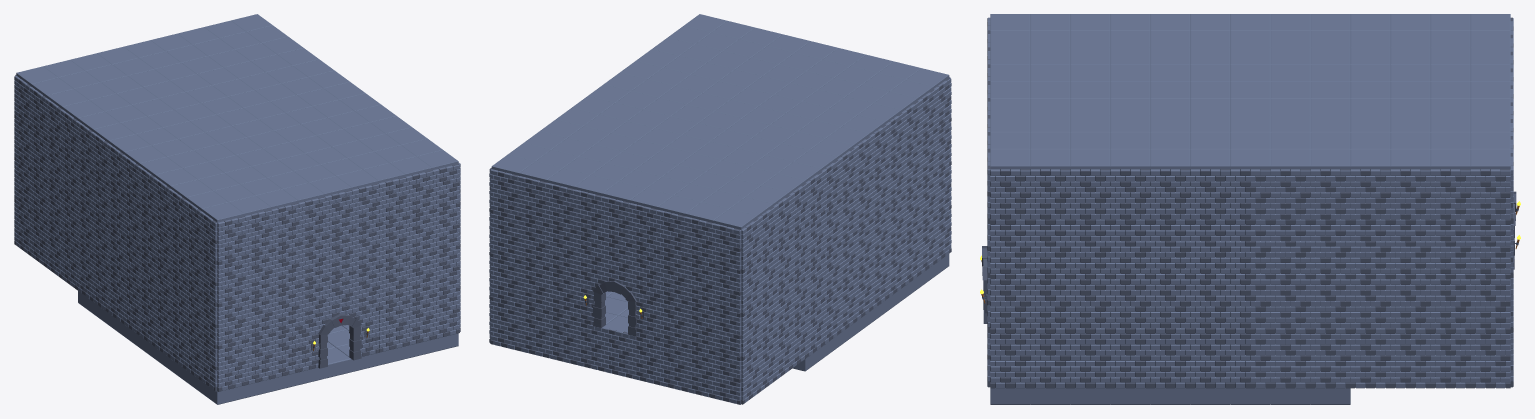
The model's file is CombatRoom_9x13.gltf.
3 views of the same model, side by side, from view 1: azimuth 30°, elevation 25°; view 2: azimuth 150°, elevation 25°; view 3: azimuth 270°, elevation 25° (orthographic). The views are drawn at different scales.
Parts seen in each view (by area): view 1: ArchOpen.001, Wall_S_0_T3, Wall_S_0_T2, Wall_S_0_T0, Wall_S_0_T1, Wall_S_5_T3, Wall_S_4_T3, Wall_S_3_T3, Wall_S_6_T3, Wall_S_1_T3, Wall_S_5_T1, Wall_S_5_T2 (+194 smaller); view 2: ArchOpen, Wall_N_0_T3, Wall_N_0_T1, Wall_N_0_T2, Wall_N_0_T0, Wall_N_1_T3, Wall_N_5_T3, Wall_N_4_T0, Wall_N_4_T3, Wall_N_8_T3, Wall_N_2_T3, Wall_N_1_T0 (+191 smaller); view 3: Wall_E_0_T3, Wall_E_10_T3, Wall_E_11_T3, Wall_E_12_T3, Wall_E_1_T3, Wall_E_2_T3, Wall_E_3_T3, Wall_E_4_T3, Wall_E_5_T3, Wall_E_6_T3, Wall_E_7_T3, Wall_E_8_T3 (+166 smaller).
Part boxes in pixels (x1,y1,x2,y2): ArchOpen.001: (298, 310, 379, 372); Wall_S_0_T3: (217, 216, 245, 265); Wall_S_0_T2: (217, 259, 245, 307); Wall_S_0_T0: (217, 343, 245, 391); Wall_S_0_T1: (217, 301, 245, 349); Wall_S_5_T3: (351, 183, 379, 232); Wall_S_4_T3: (325, 190, 352, 239); Wall_S_3_T3: (298, 196, 325, 245); Wall_S_6_T3: (378, 177, 406, 226); Wall_S_1_T3: (244, 209, 272, 258); Wall_S_5_T1: (352, 268, 379, 316); Wall_S_5_T2: (352, 226, 379, 274); ArchOpen: (573, 277, 656, 340); Wall_N_0_T3: (712, 223, 741, 274); Wall_N_0_T1: (712, 311, 741, 361); Wall_N_0_T2: (712, 267, 741, 317); Wall_N_0_T0: (712, 355, 741, 404); Wall_N_1_T3: (684, 216, 713, 267); Wall_N_5_T3: (573, 189, 602, 240); Wall_N_4_T0: (601, 326, 629, 377); Wall_N_4_T3: (601, 196, 629, 246); Wall_N_8_T3: (490, 169, 518, 219); Wall_N_2_T3: (656, 209, 685, 260); Wall_N_1_T0: (684, 348, 712, 397); Wall_E_0_T3: (990, 169, 1030, 224); Wall_E_10_T3: (1390, 169, 1430, 224); Wall_E_11_T3: (1430, 169, 1470, 224); Wall_E_12_T3: (1470, 169, 1510, 224); Wall_E_1_T3: (1030, 169, 1070, 224); Wall_E_2_T3: (1070, 169, 1110, 224); Wall_E_3_T3: (1110, 169, 1150, 224); Wall_E_4_T3: (1150, 169, 1190, 224); Wall_E_5_T3: (1190, 169, 1230, 224); Wall_E_6_T3: (1230, 169, 1270, 224); Wall_E_7_T3: (1270, 169, 1310, 224); Wall_E_8_T3: (1310, 169, 1350, 224).
Bounding box in the file's own units: 18.3 × 13.2 × 27.04.
